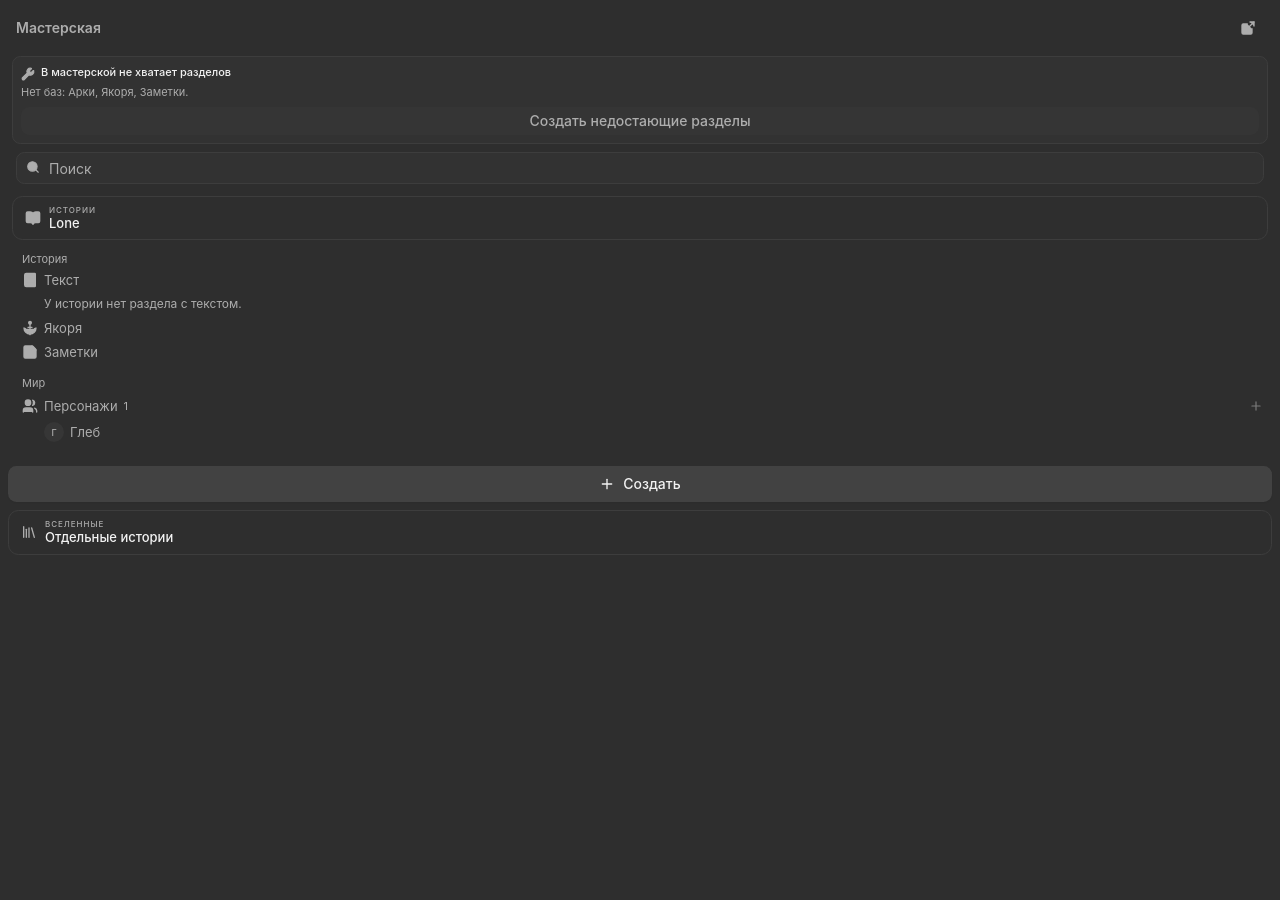
Test: CreativePanel: the stories above the lists, the universes below them › the card of the universes › resets a story the new scope does not hold to 'All stories'
Click the dropdown named "Вселенная".
click(75, 524)  # box [9,511,1271,554]
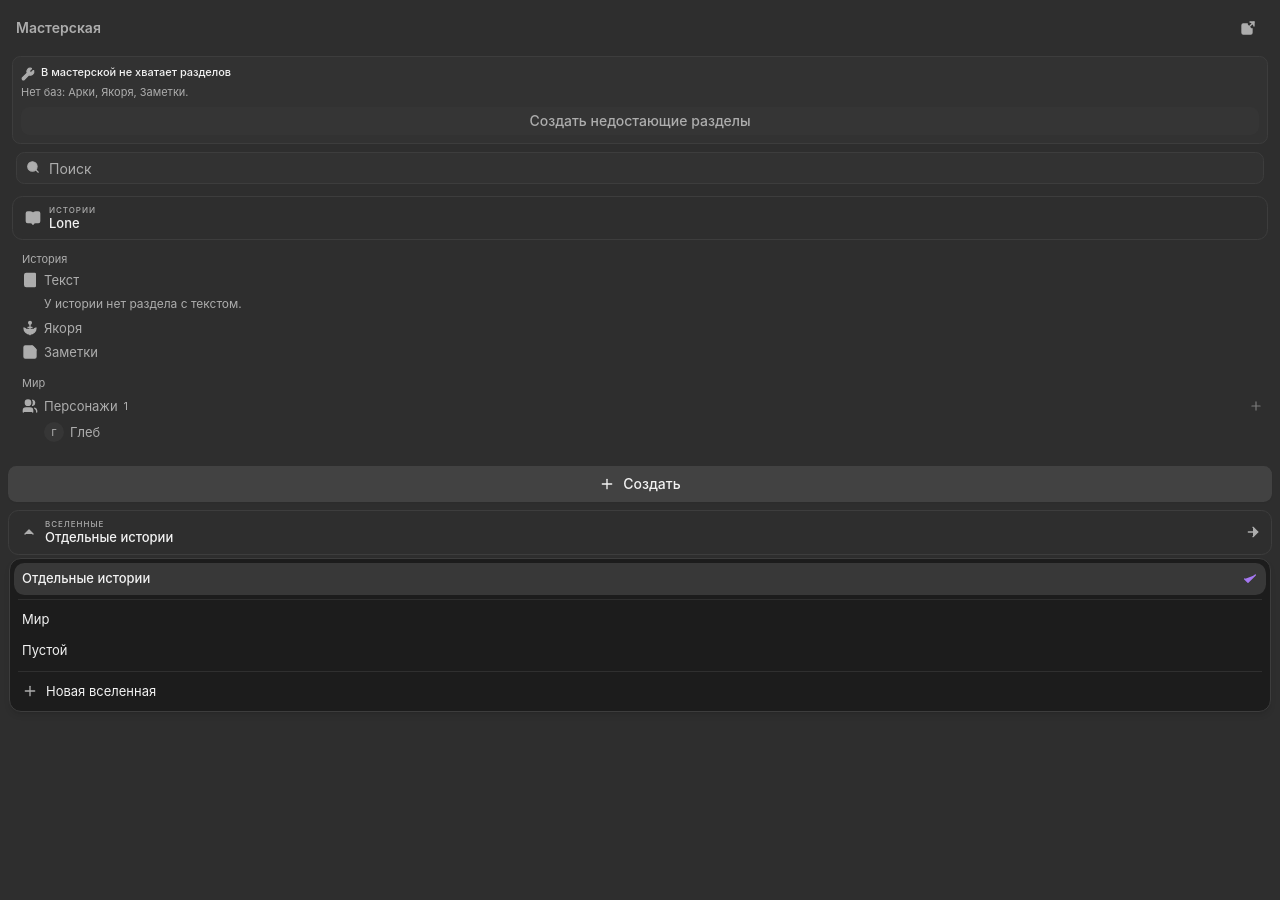
Click the option "Мир".
click(36, 618)  # box [14,604,1266,635]
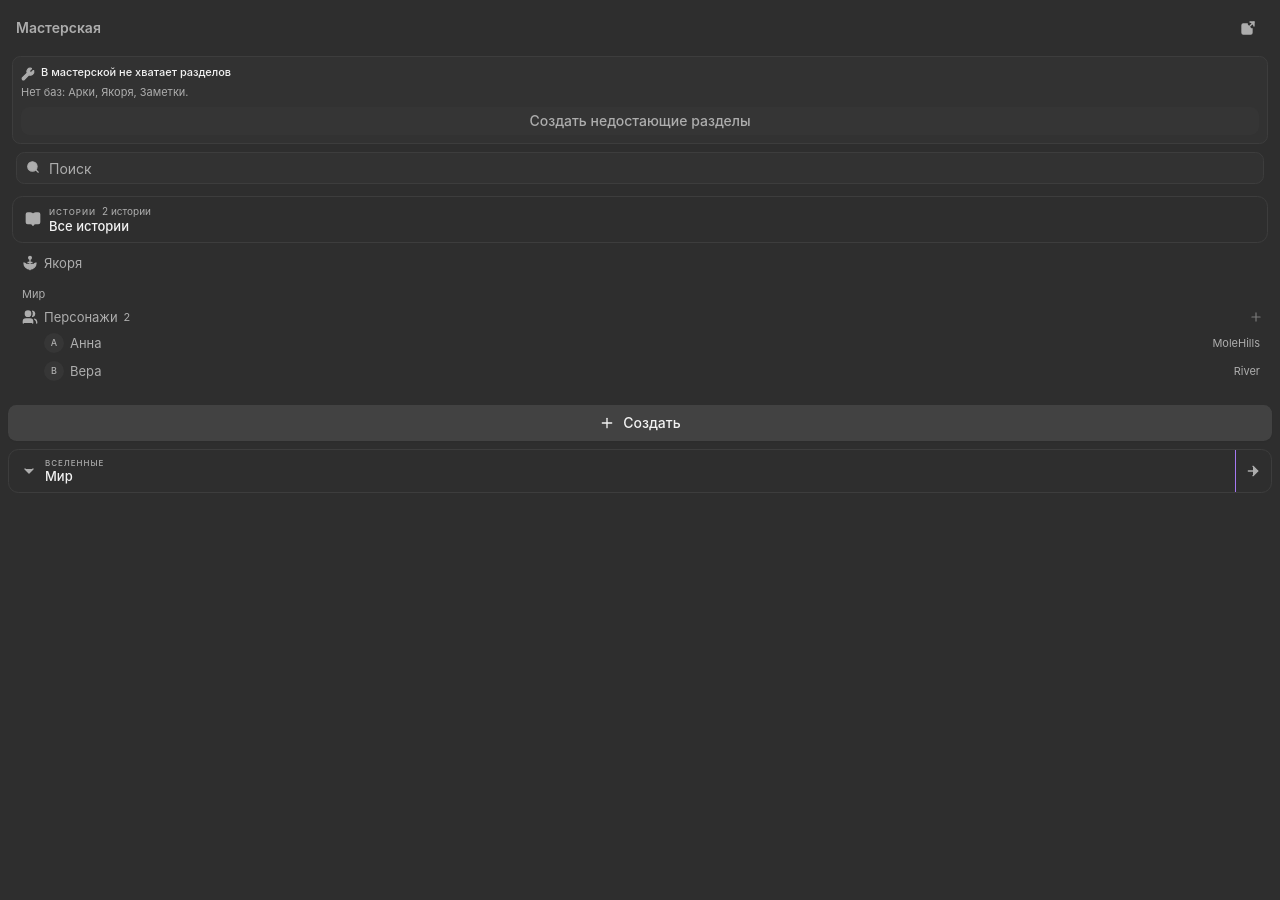
Expected: the list is gone
Click the dropdown named "История".
click(72, 212)  # box [13,197,1267,242]
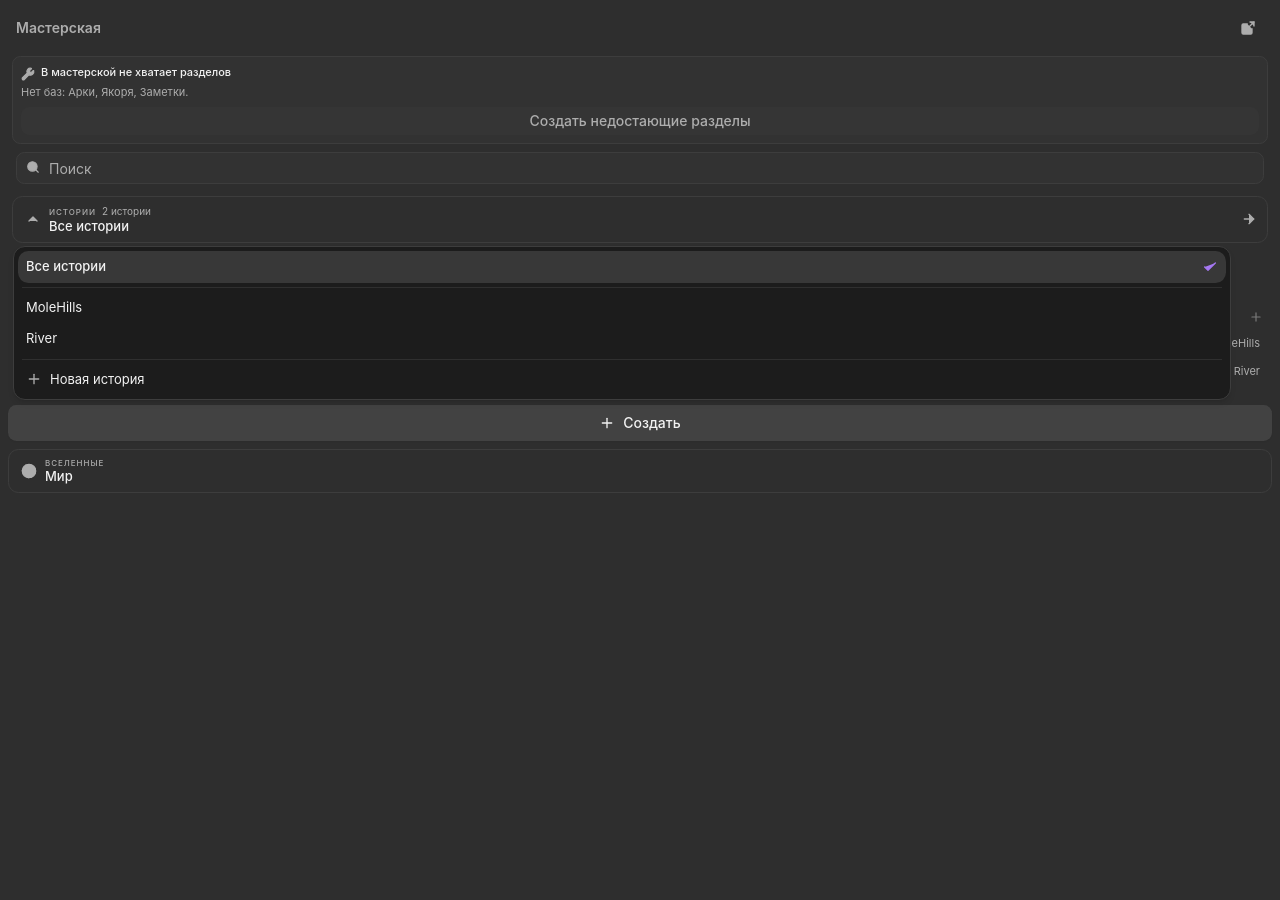
Click the option "River".
click(42, 338)  # box [18,323,1226,354]
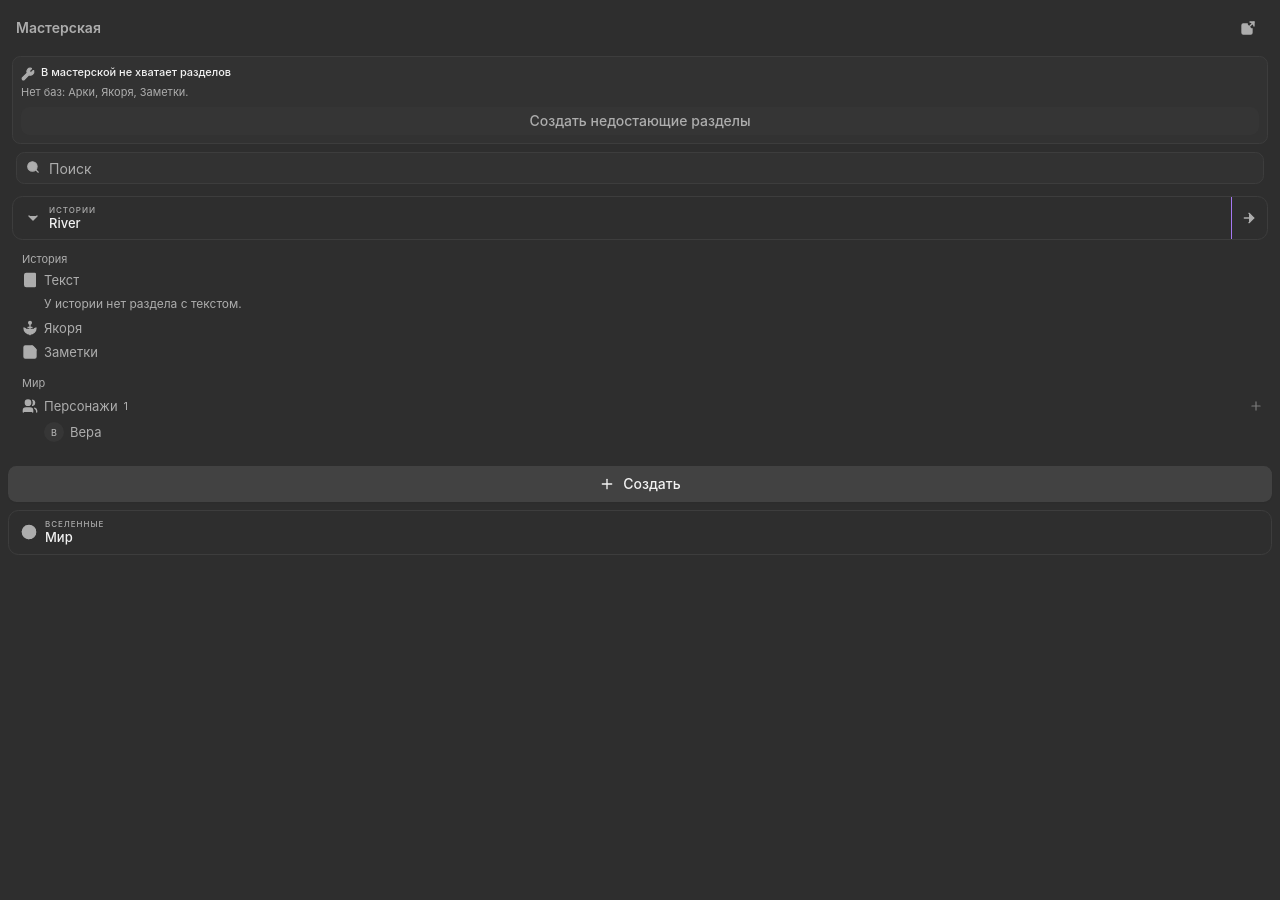
Expected: the list is gone
Click the dropdown named "Вселенная".
click(75, 524)  # box [9,511,1271,554]
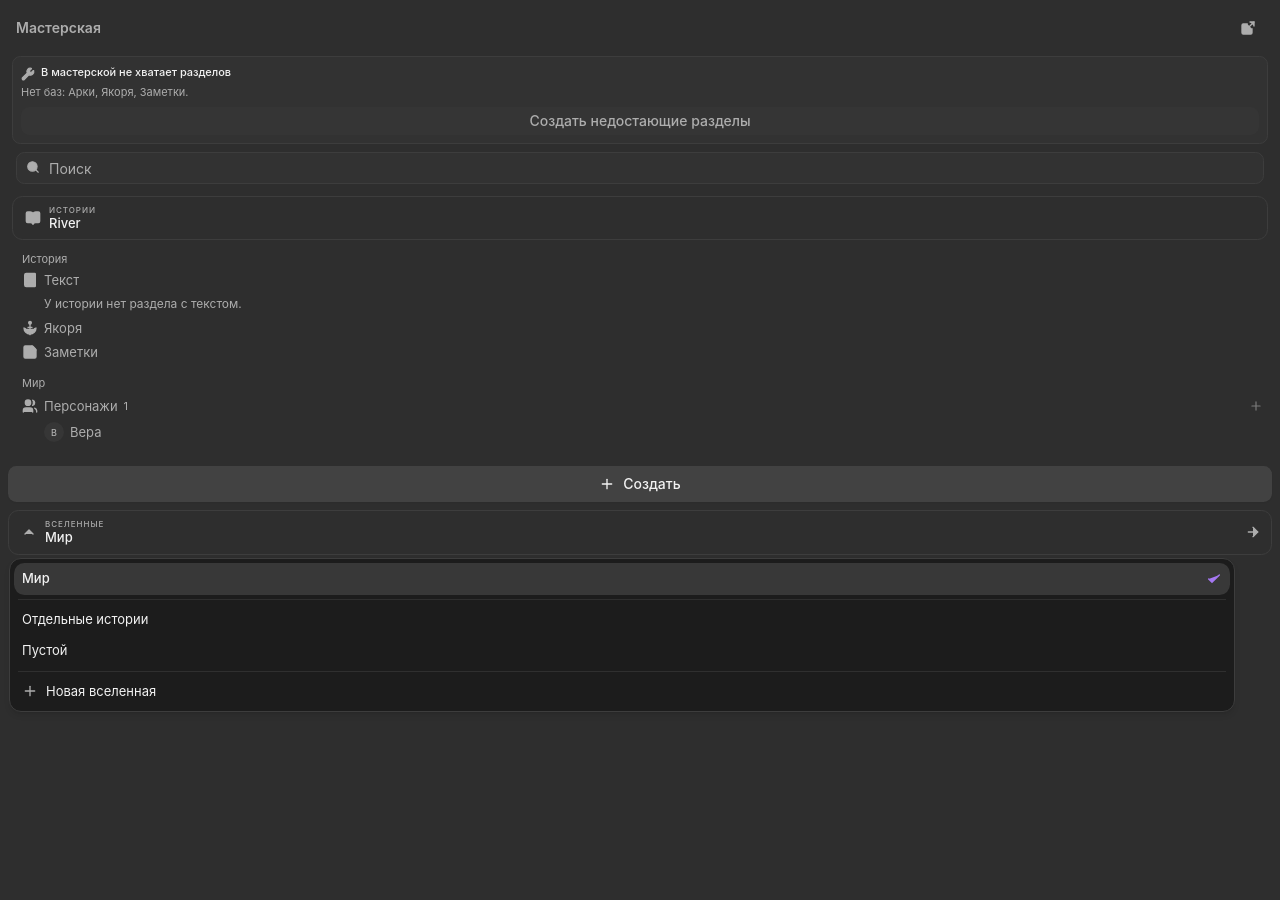
Click the option "Пустой".
click(45, 650)  # box [14,635,1230,666]
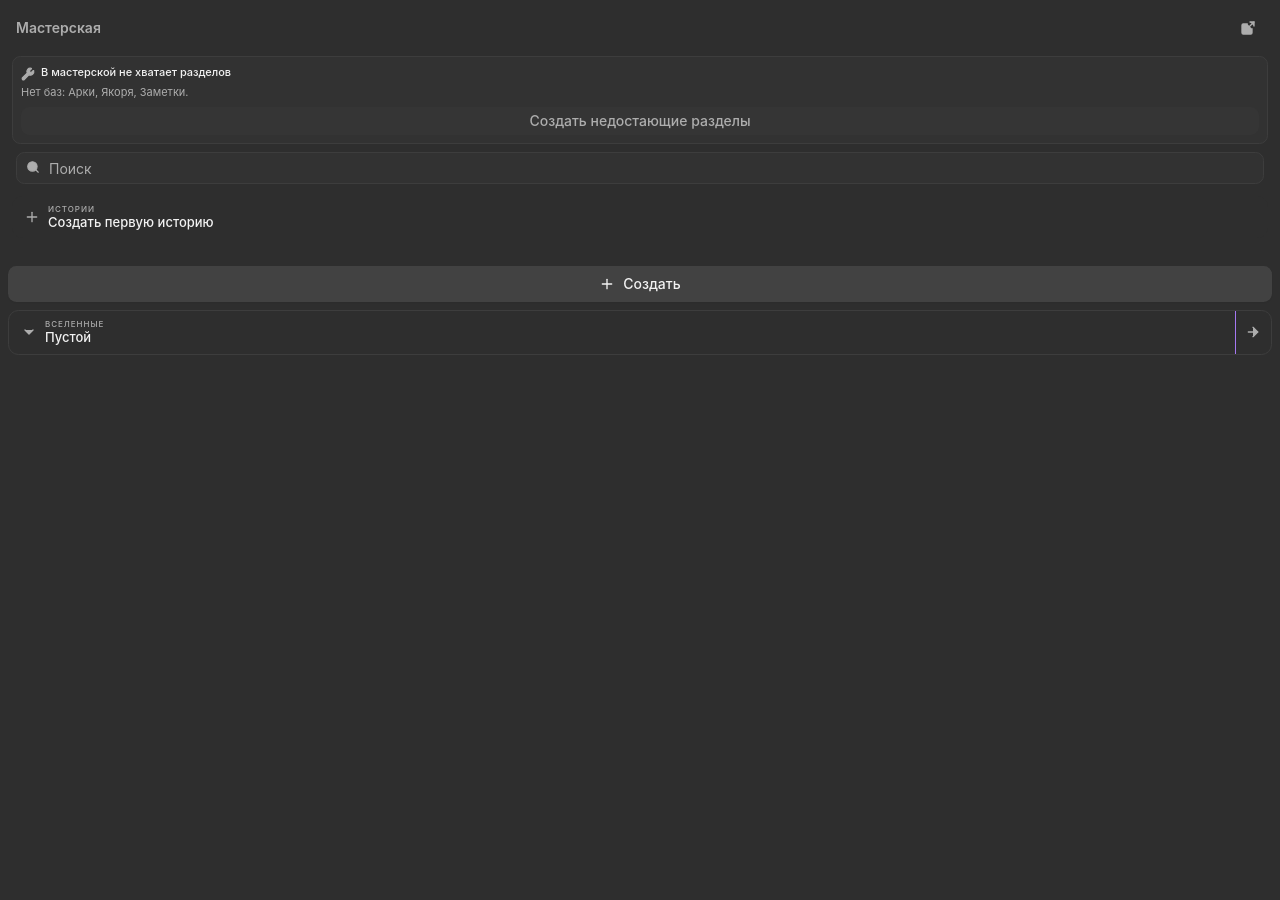
Expected: the dropdown "Все истории" is not shown
Expected: the button "Истории Создать первую историю" is shown, [12,196,1268,238]
Expected: the heading "История" is gone
